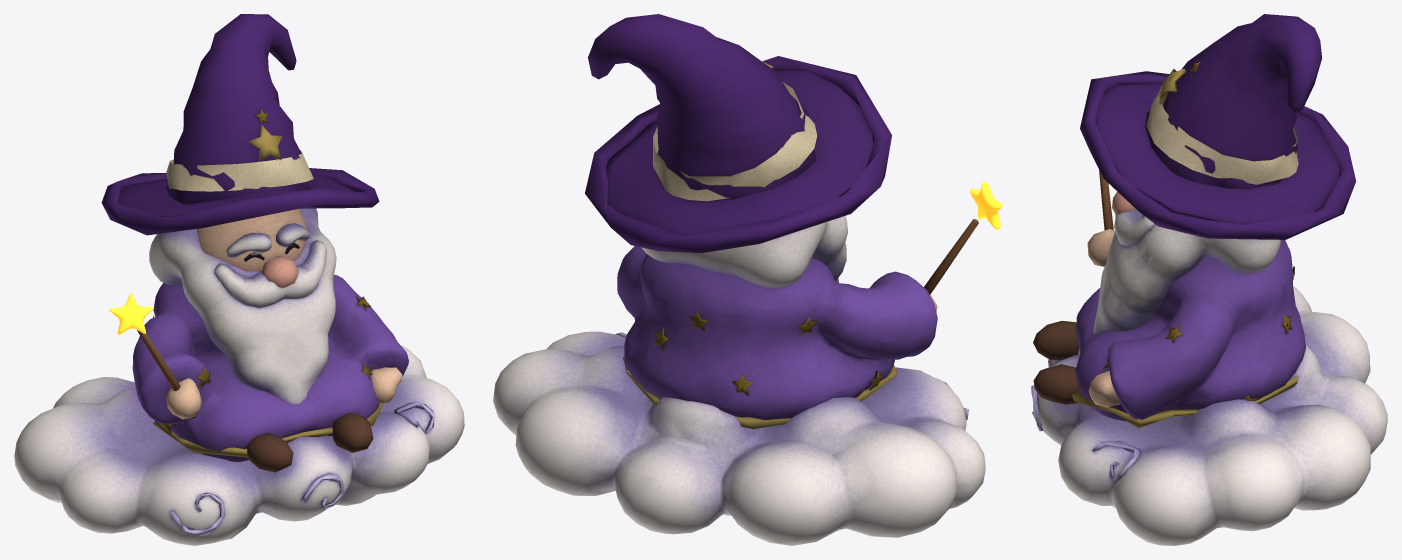
The model's file is wizard_cloud.glb.
3 views of the same model, side by side, from view 1: azimuth 30°, elevation 25°; view 2: azimuth 150°, elevation 25°; view 3: azimuth 270°, elevation 25° (orthographic). The views are drawn at different scales.
Parts seen in each view (by area): view 1: wizard, cloud, wand_star; view 2: wizard, cloud, wand_star; view 3: wizard, cloud.
Boxes of the visible parts, box(x1,y1,x2,y2) form: wizard: box(101, 14, 408, 472); cloud: box(14, 345, 464, 545); wand_star: box(109, 293, 153, 334); wizard: box(585, 14, 978, 429); cloud: box(493, 331, 985, 545); wand_star: box(970, 181, 1002, 229); wizard: box(1033, 14, 1355, 428); cloud: box(1031, 286, 1387, 545).
Bounding box in the file's own units: 1.52 × 1.6 × 1.09.
Materials: 2 (1 with a texture image).
